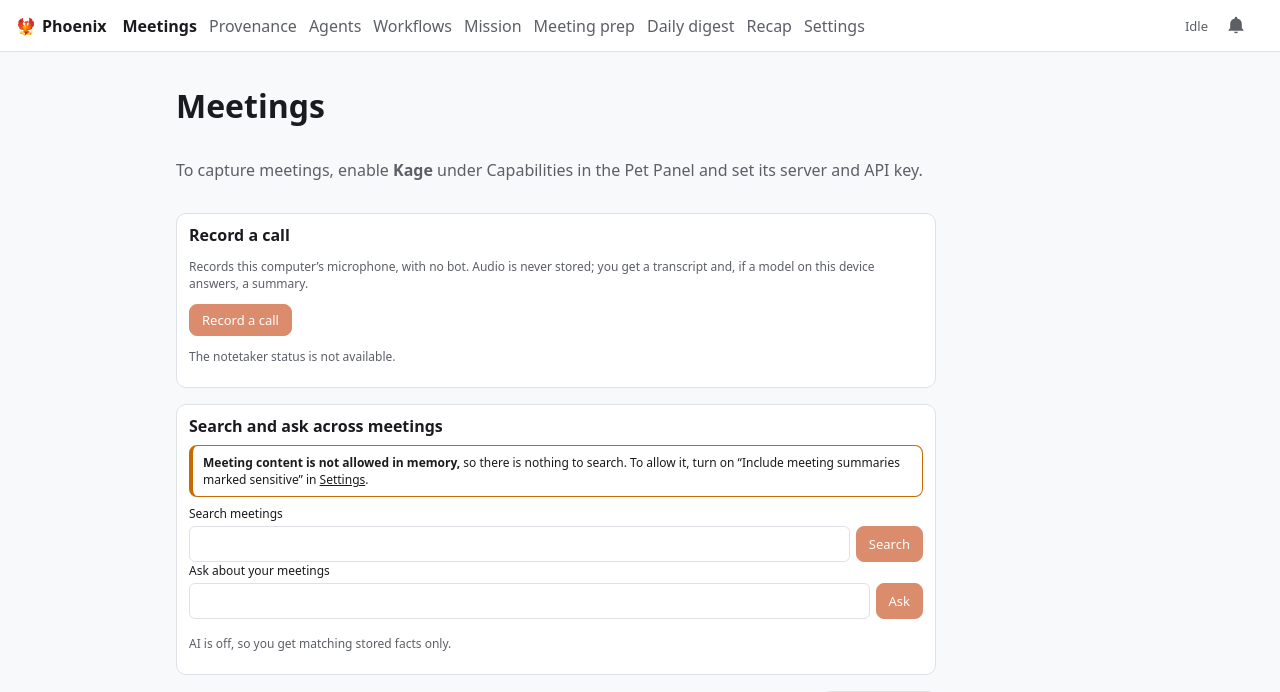
Search across meetings › explains that meeting content is not allowed, before and after a search
expect the text "Meeting content is not allowed in memory," is shown: met, box [203, 454, 460, 471]
In the field labelled "Search meetings": x=519, y=544 [189, 526, 850, 562], type "x"
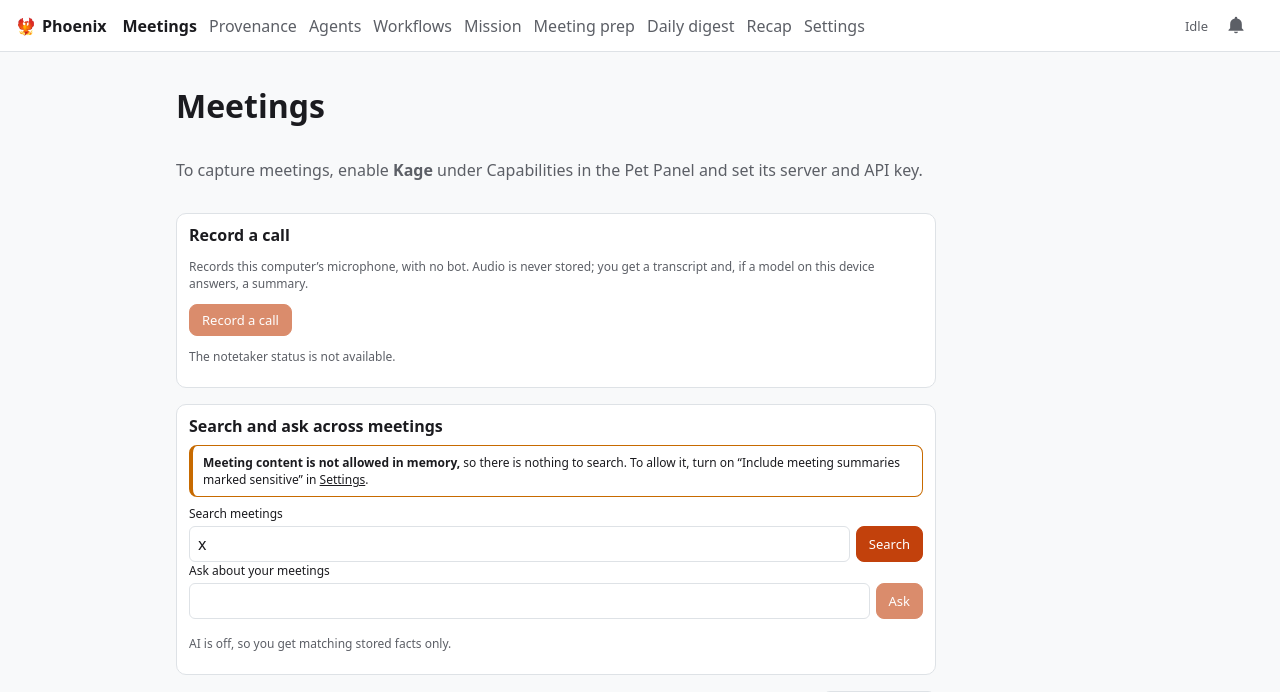
Click the button "Search": x=889, y=544 [856, 526, 923, 562]
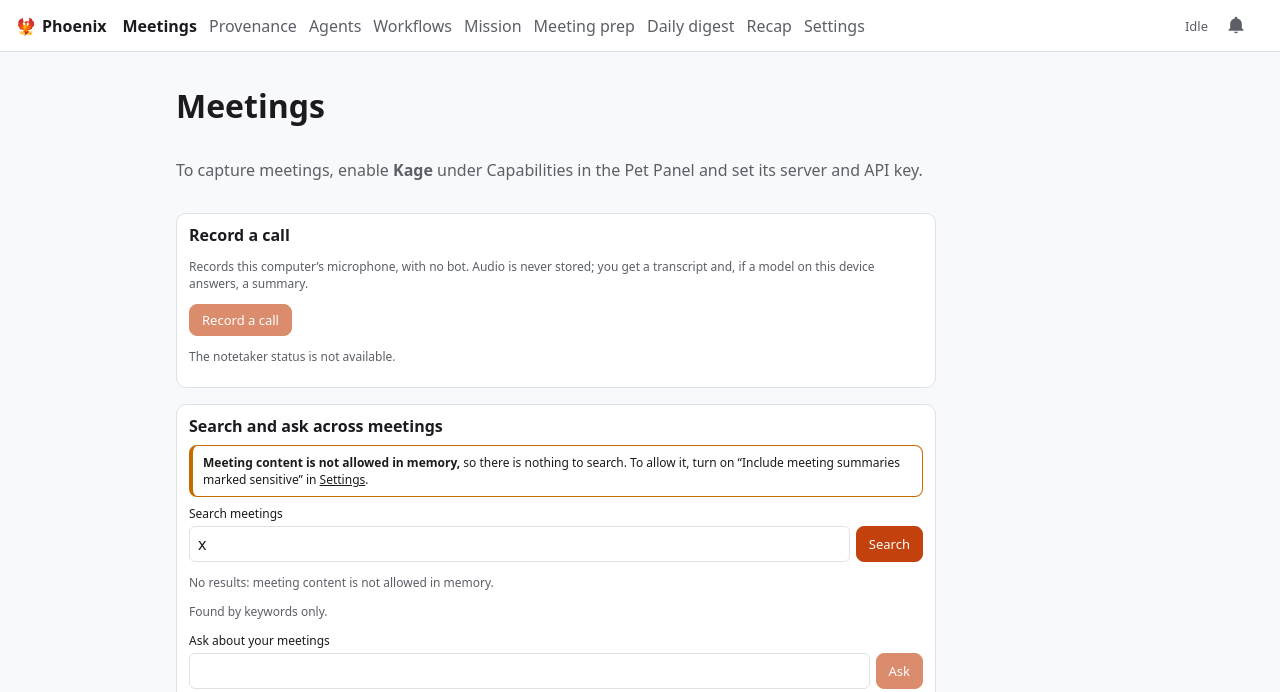
expect the text "No results: meeting content is not allowed in memory." is shown: met, box [189, 574, 494, 591]
